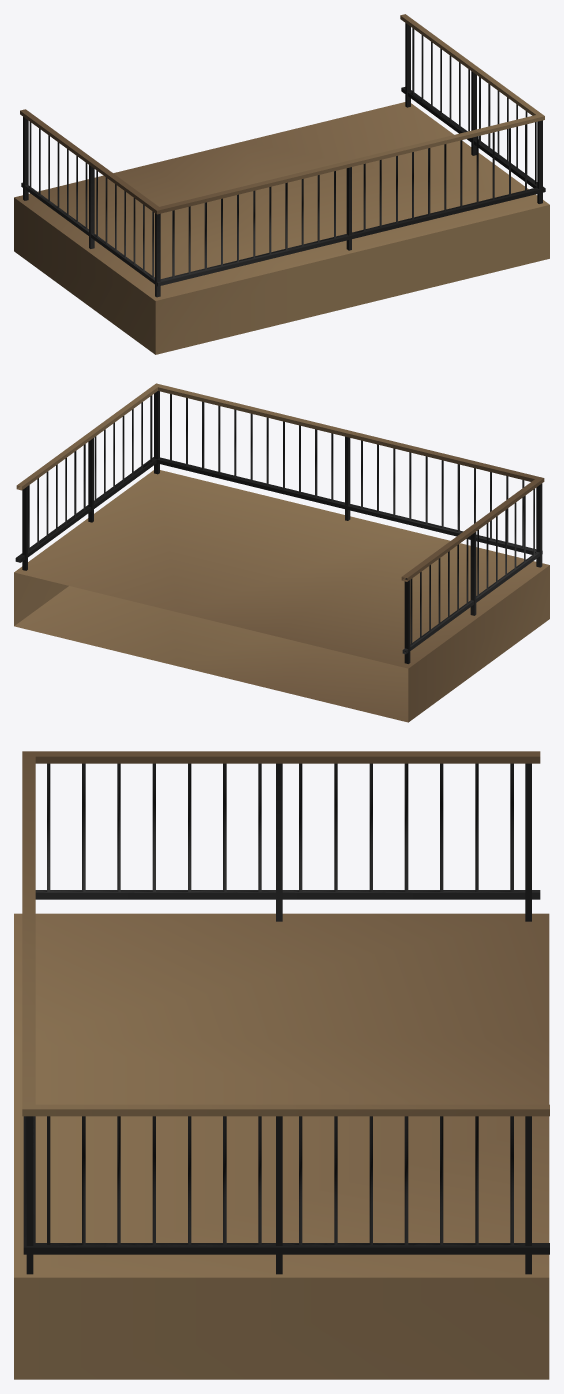
File: Terassa (6).fbx
The picture shows the model from 3 angles, top to bottom: view 1: azimuth 30°, elevation 25°; view 2: azimuth 150°, elevation 25°; view 3: azimuth 270°, elevation 25°; orthographic projection. The views are drawn at different scales.
Parts seen in each view (by area): view 1: Cube.001; view 2: Cube.001; view 3: Cube.001.
Part boxes in pixels (bbox=[...]): Cube.001: bbox=[14, 14, 549, 354]; Cube.001: bbox=[14, 383, 549, 722]; Cube.001: bbox=[14, 751, 549, 1379].
Bounding box in the file's own units: 1344 × 461 × 836.
